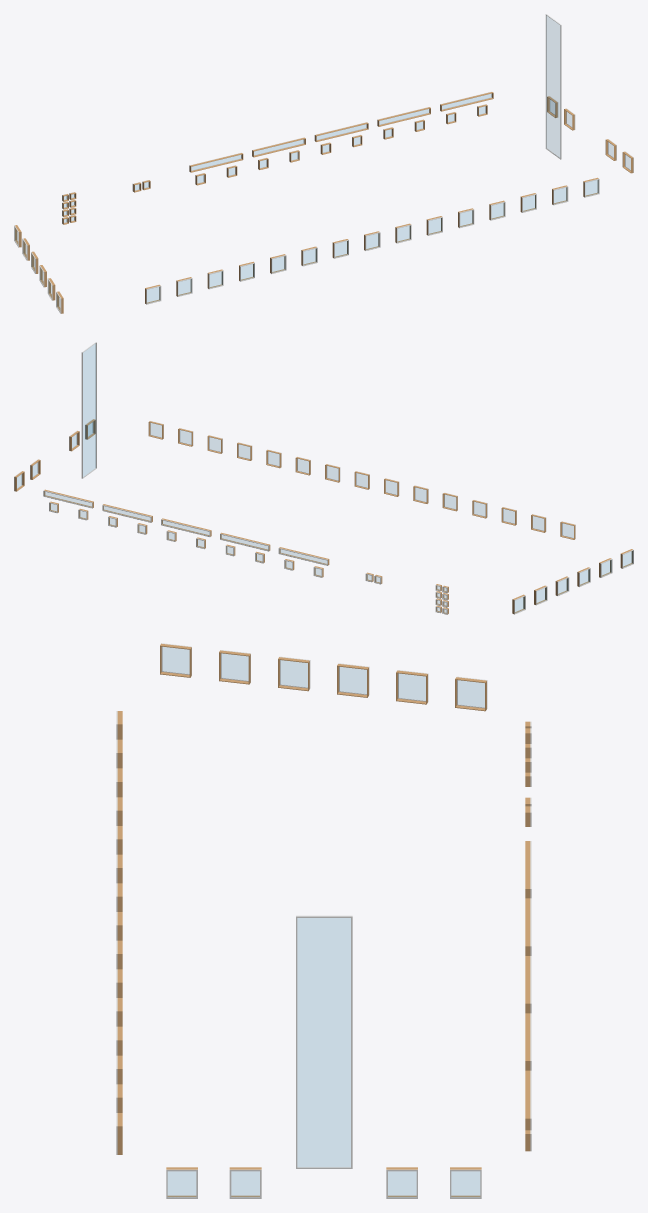
File: Building Model - Excavation and Trench - updated_1kn71nZ$z5OvtVVlfMoOvv-Piso 2_IfcWindow.dae
3 views of the same model, one above another, from view 1: azimuth 30°, elevation 25°; view 2: azimuth 150°, elevation 25°; view 3: azimuth 270°, elevation 25° (orthographic). The views are drawn at different scales.
Visible parts, largest first — view 1: 2s0Jv35vTCcvU8lH771Zrq, 0jFAAIDIf1MvwbwQYdFyNK, 0jFAAIDIf1MvwbwQYdFyMW, 0jFAAIDIf1MvwbwQYdFyMZ, 0jFAAIDIf1MvwbwQYdFyMc, 0jFAAIDIf1MvwbwQYdFyMX; view 2: 2s0Jv35vTCcvU8lH771Zrq, 0jFAAIDIf1MvwbwQYdFyNK, 0jFAAIDIf1MvwbwQYdFyMc, 0jFAAIDIf1MvwbwQYdFyMW, 0jFAAIDIf1MvwbwQYdFyMX, 0jFAAIDIf1MvwbwQYdFyMZ; view 3: 2s0Jv35vTCcvU8lH771Zrq, 0jFAAIDIf1MvwbwQYdFyNM, 0jFAAIDIf1MvwbwQYdFyNF, 0jFAAIDIf1MvwbwQYdFyNN, 0jFAAIDIf1MvwbwQYdFyNH, 0jFAAIDIf1MvwbwQYdFyNG, 0jFAAIDIf1MvwbwQYdFyNJ, 0jFAAIDIf1MvwbwQYdFyNI, 0jFAAIDIf1MvwbwQYdFyNE, 0jFAAIDIf1MvwbwQYdFyND, 0jFAAIDIf1MvwbwQYdFyNC.
Part boxes in pixels (box(x1,y1,x2,y2)): 2s0Jv35vTCcvU8lH771Zrq: box(545, 14, 561, 159); 0jFAAIDIf1MvwbwQYdFyNK: box(189, 152, 243, 172); 0jFAAIDIf1MvwbwQYdFyMW: box(314, 122, 368, 141); 0jFAAIDIf1MvwbwQYdFyMZ: box(252, 137, 305, 157); 0jFAAIDIf1MvwbwQYdFyMc: box(440, 91, 493, 111); 0jFAAIDIf1MvwbwQYdFyMX: box(377, 107, 430, 126); 2s0Jv35vTCcvU8lH771Zrq: box(81, 342, 96, 478); 0jFAAIDIf1MvwbwQYdFyNK: box(278, 547, 329, 565); 0jFAAIDIf1MvwbwQYdFyMc: box(43, 489, 93, 508); 0jFAAIDIf1MvwbwQYdFyMW: box(161, 518, 211, 536); 0jFAAIDIf1MvwbwQYdFyMX: box(102, 504, 152, 522); 0jFAAIDIf1MvwbwQYdFyMZ: box(220, 532, 270, 551); 2s0Jv35vTCcvU8lH771Zrq: box(296, 915, 352, 1168); 0jFAAIDIf1MvwbwQYdFyNM: box(396, 670, 428, 704); 0jFAAIDIf1MvwbwQYdFyNF: box(229, 1167, 261, 1198); 0jFAAIDIf1MvwbwQYdFyNN: box(455, 676, 487, 711); 0jFAAIDIf1MvwbwQYdFyNH: box(337, 663, 369, 697); 0jFAAIDIf1MvwbwQYdFyNG: box(278, 656, 310, 691); 0jFAAIDIf1MvwbwQYdFyNJ: box(219, 650, 250, 684); 0jFAAIDIf1MvwbwQYdFyNI: box(160, 643, 191, 677); 0jFAAIDIf1MvwbwQYdFyNE: box(166, 1167, 197, 1198); 0jFAAIDIf1MvwbwQYdFyND: box(450, 1167, 481, 1198); 0jFAAIDIf1MvwbwQYdFyNC: box(386, 1167, 417, 1198).
Bounding box in the file's own units: 55.08 × 18.36 × 12.64.
